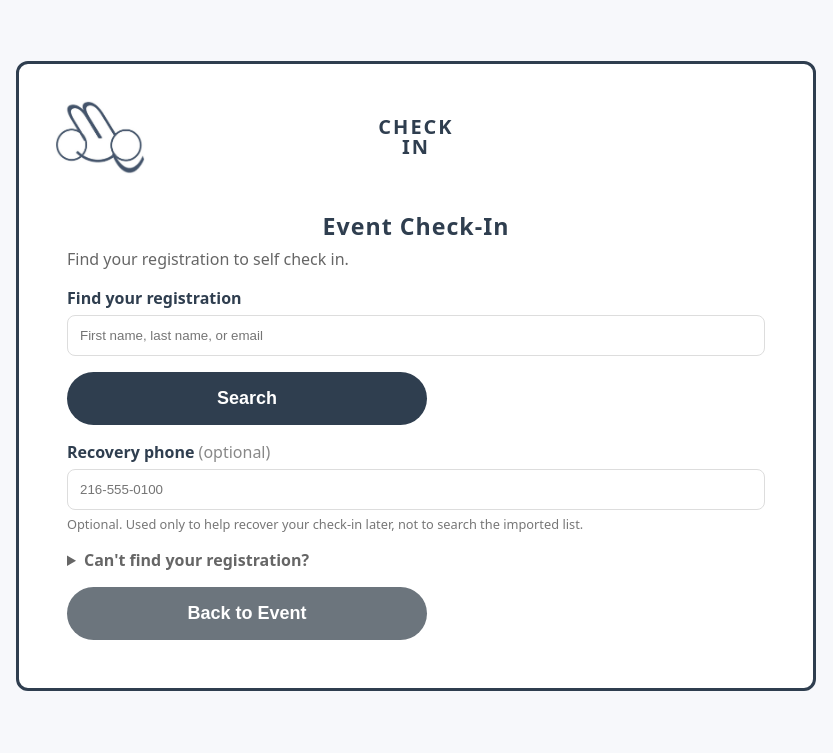
it: GuestEventCheckIn › shows party-size confirmation for imported registration with Tickets=1
Step 1. Type "Paul" into the field with placeholder "First name, last name, or email" → (416, 336), box left=67, top=315, right=765, bottom=356
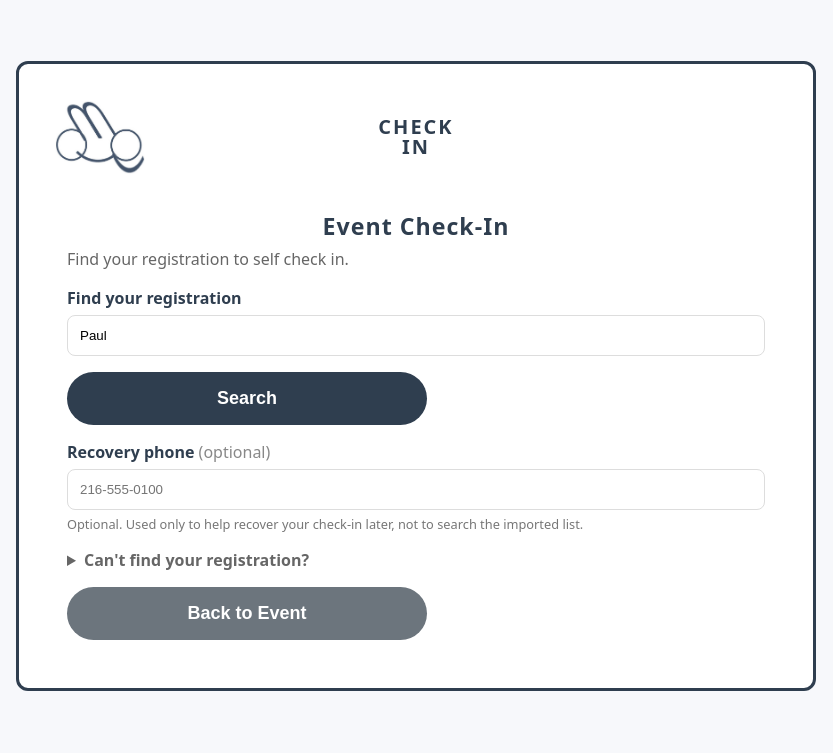
Step 2. Click the button "Search" → (247, 399), box left=67, top=372, right=427, bottom=425
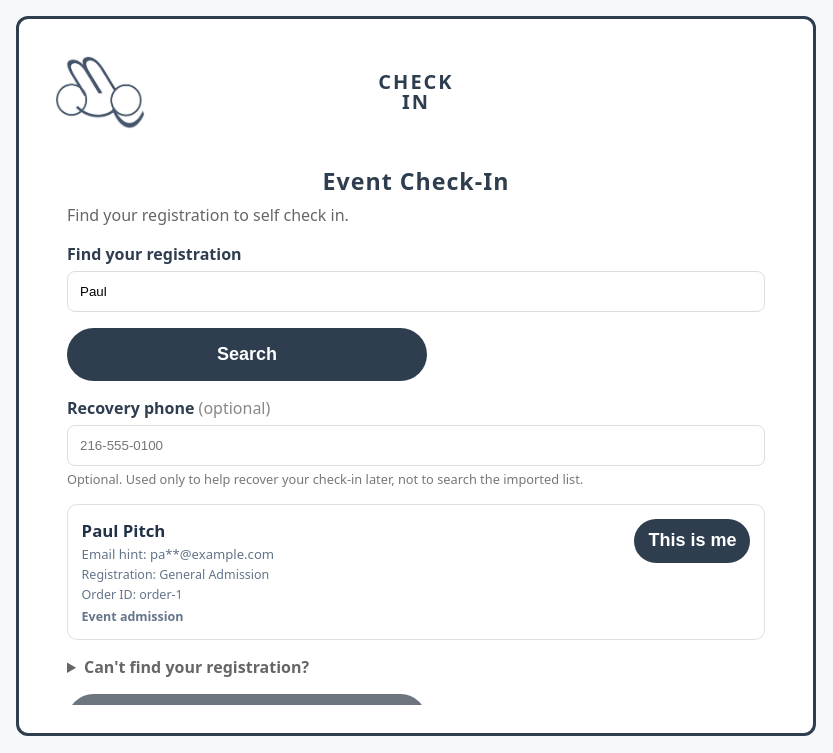
Step 3. Click the button "This is me" → (692, 541), box left=634, top=519, right=750, bottom=563
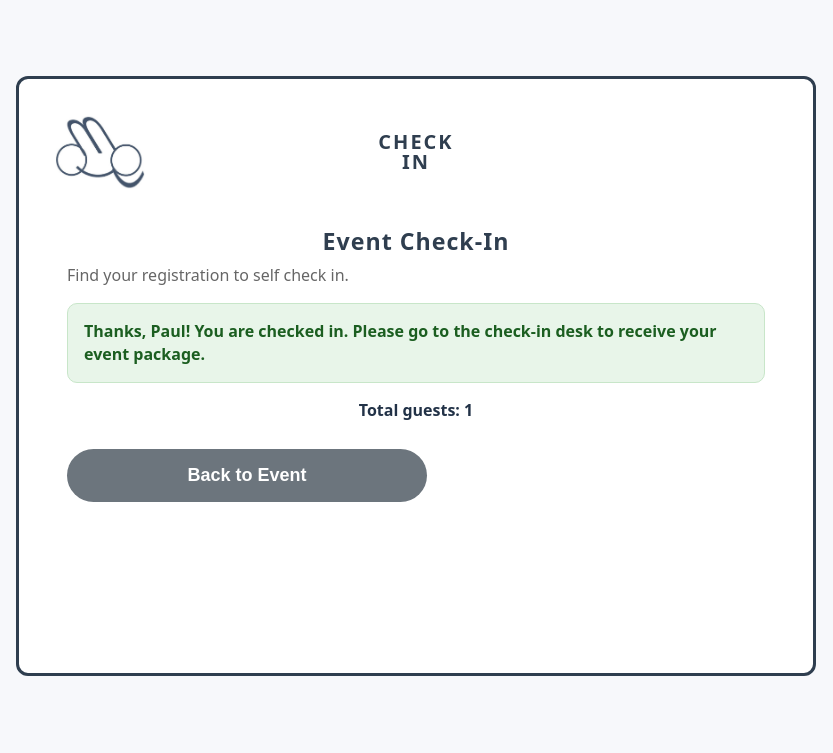
Expected: the text "Please go to the check-in desk to receive your event package." is shown, left=84, top=320, right=717, bottom=365
Expected: the text "Total guests: 1" is shown, left=359, top=399, right=473, bottom=421
